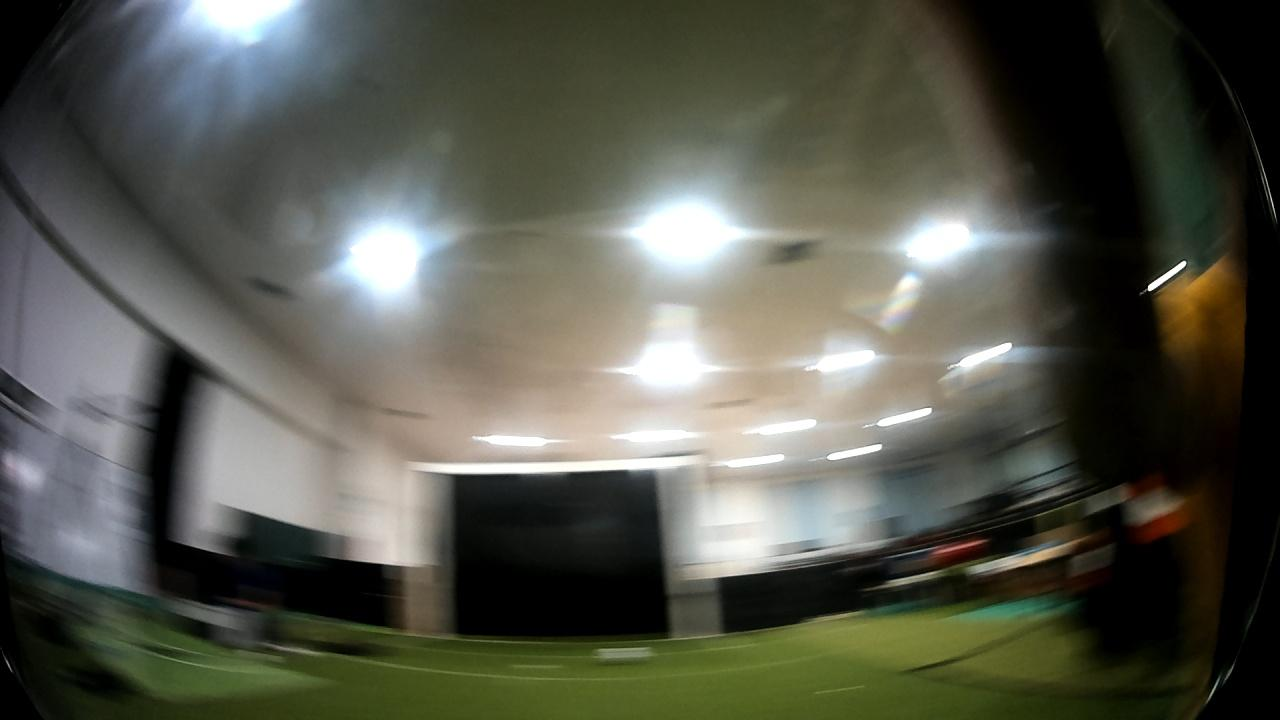ball: (594, 643, 657, 669)
